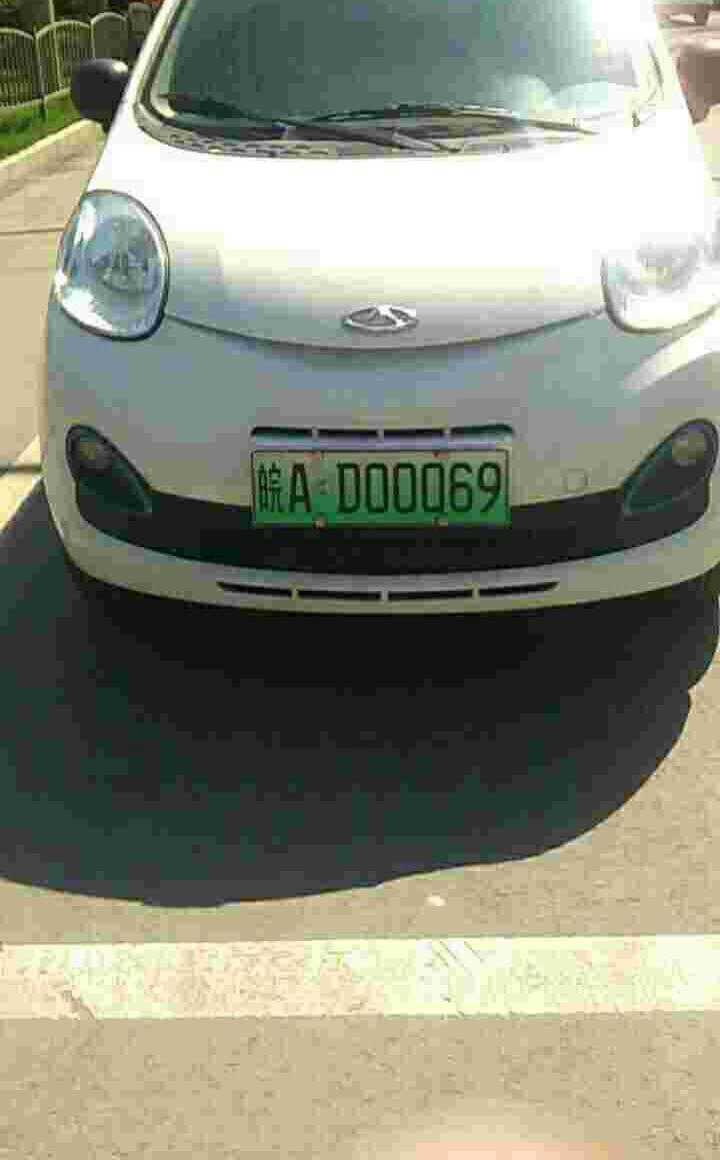car_id: (250, 450, 508, 523)
